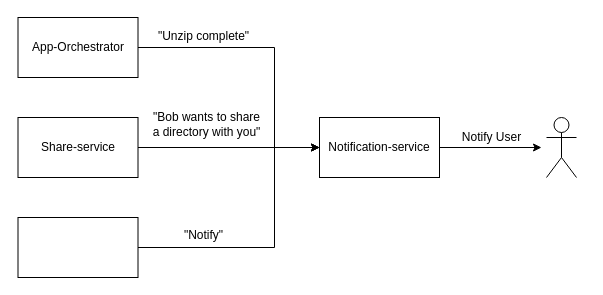
Image size: 603x295. Some labels were removed from this diagram. The box of each missing label's shape, as (x1, y1, x2, y2) in pixels:
End User: (546, 116, 576, 178)
Some other service: (17, 216, 138, 278)
